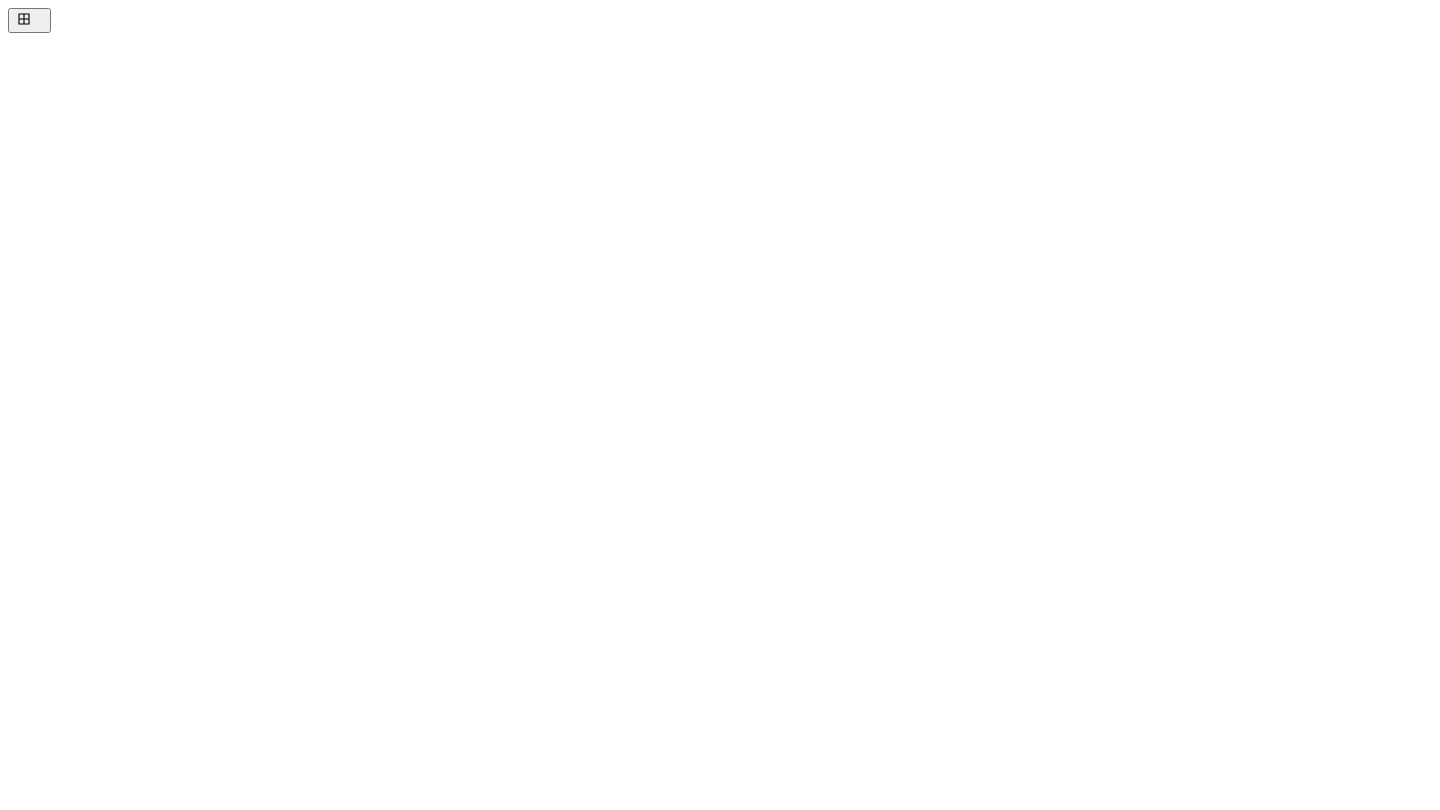
the borders panel › applies the preset it is given with the pen it has, and remembers the pen
This screenshot has width=1440, height=810.
Later steps or results of the test are not shown.
Click the button named "Borders" at coordinates (30, 20), box x1=8 y1=8 x2=51 y2=33
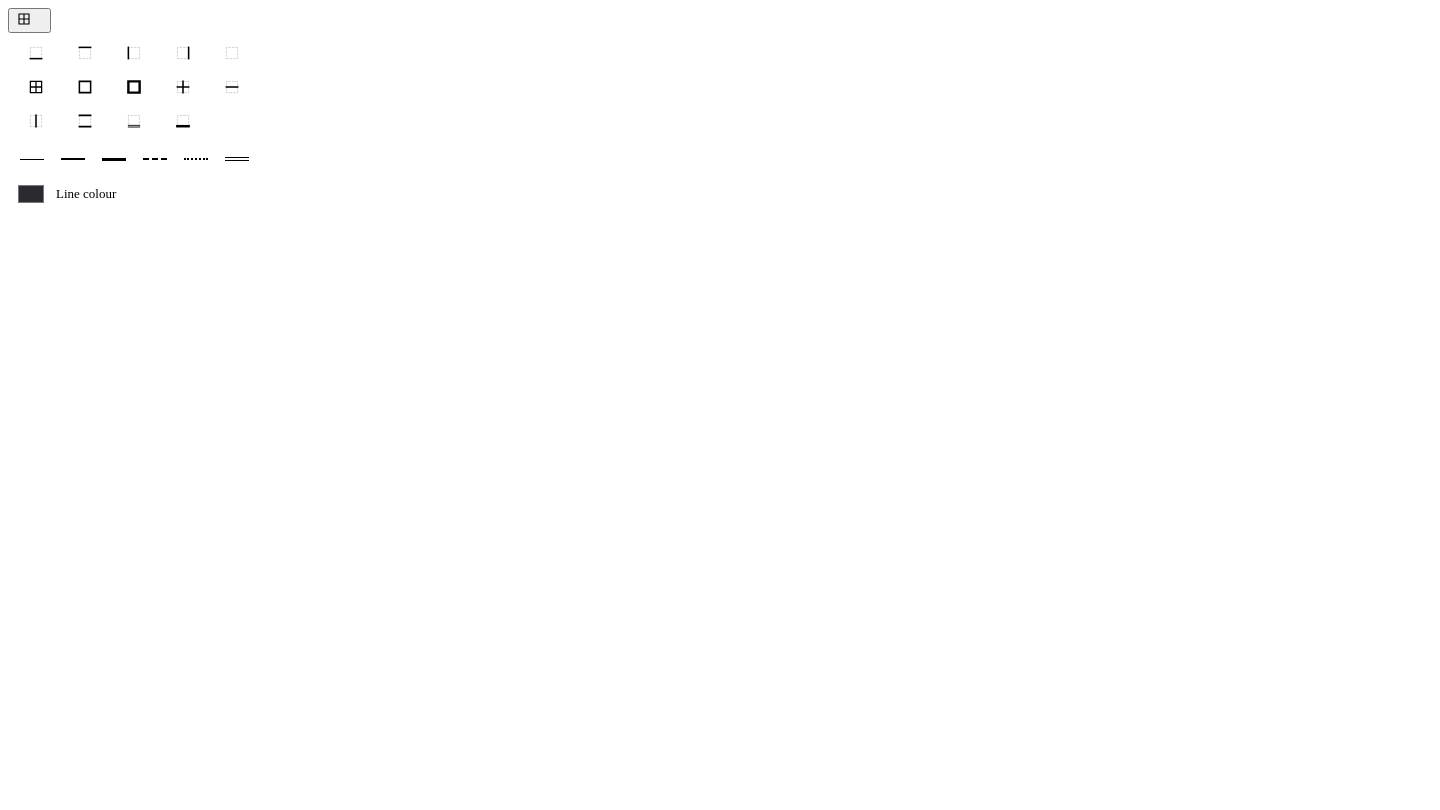
Click the button named "Dashed" at coordinates (154, 159), box x1=135 y1=145 x2=174 y2=173
Click the button named "Outside borders" at coordinates (85, 87), box x1=61 y1=71 x2=108 y2=103
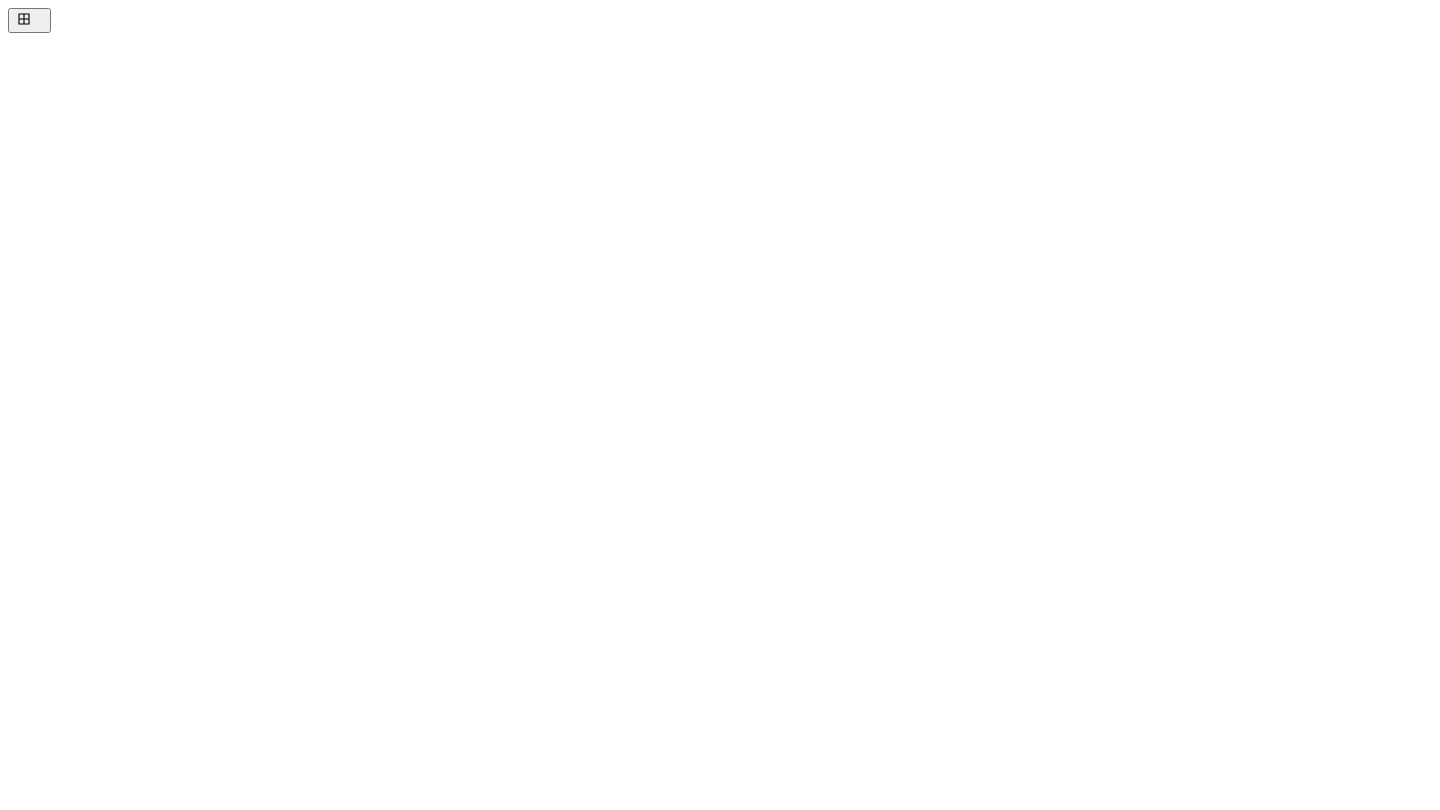
Now the element with class "sx-border-panel" is gone
Click the button named "Borders" at coordinates (30, 20), box x1=8 y1=8 x2=51 y2=33
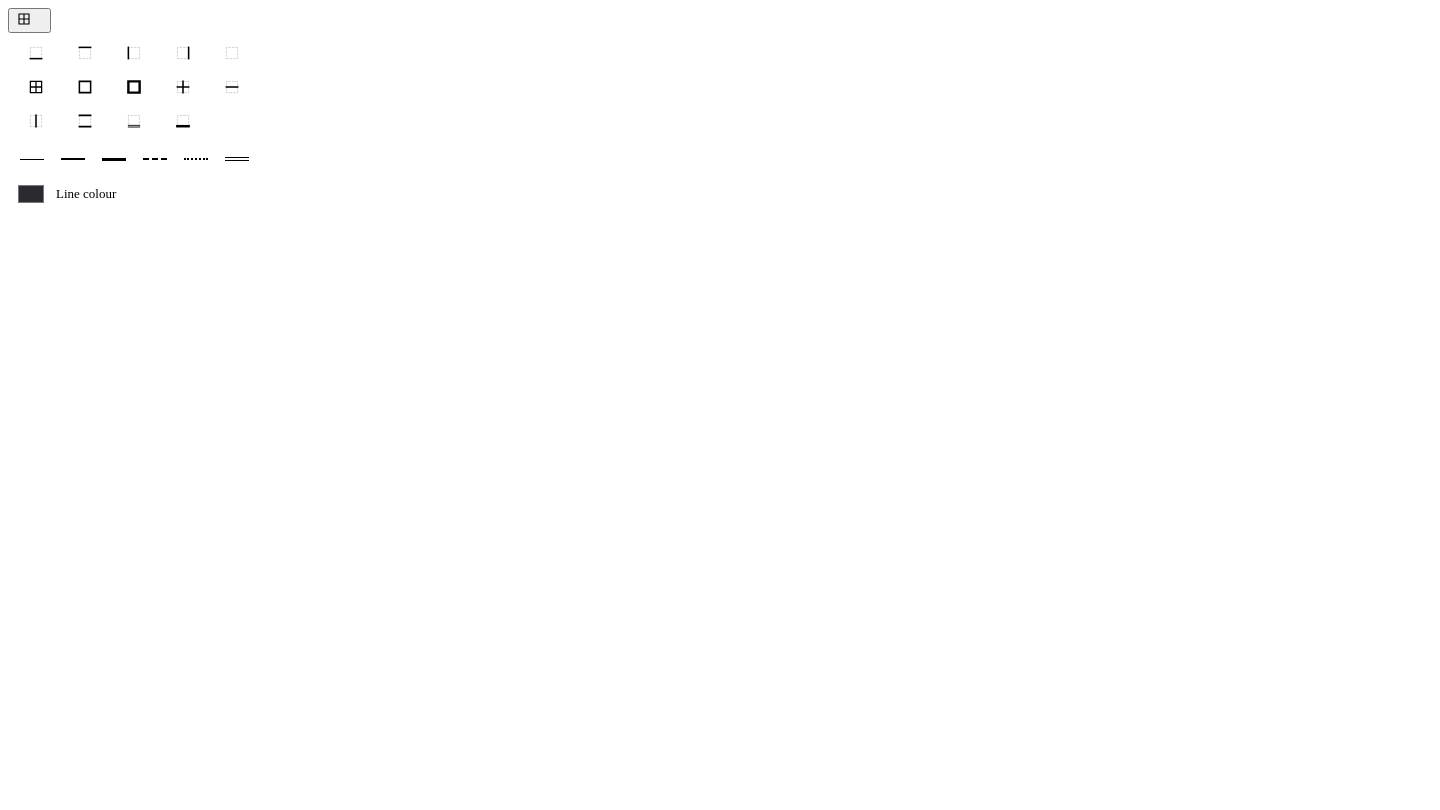
Now the button named "Dashed" is pressed, box x1=135 y1=145 x2=174 y2=173
